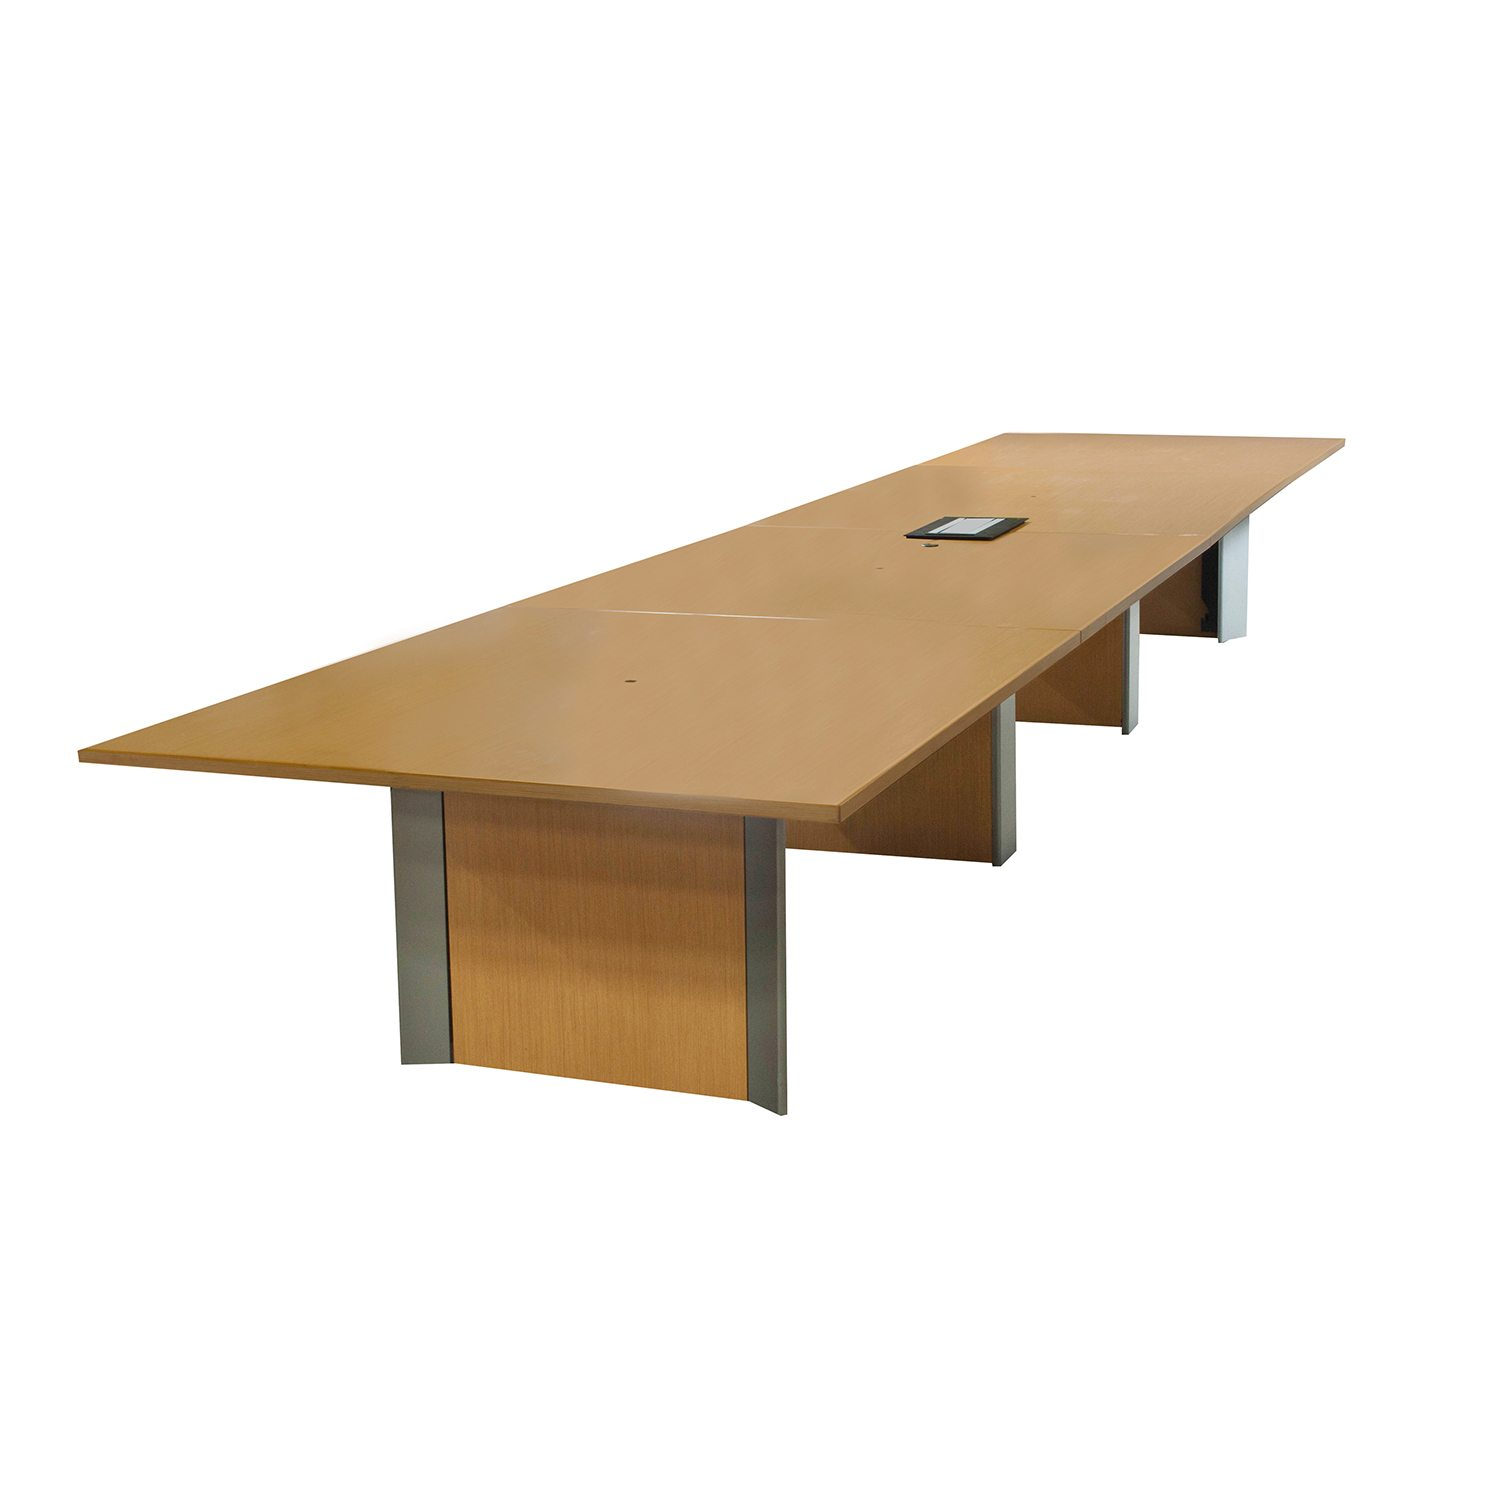conference_table: (78, 431, 1348, 1113)
